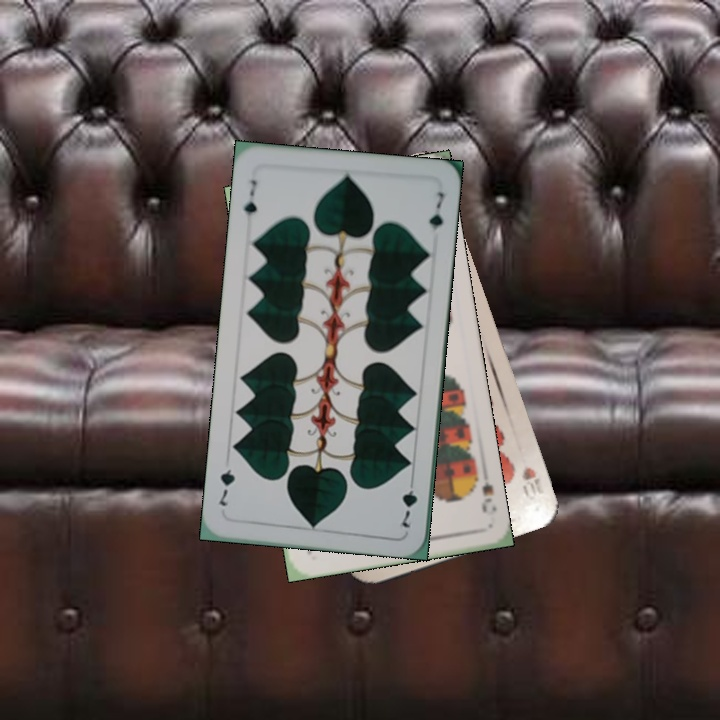G7: (398, 473, 420, 530), (239, 175, 260, 218)
H10: (517, 462, 547, 503)
S9: (469, 463, 496, 515)
